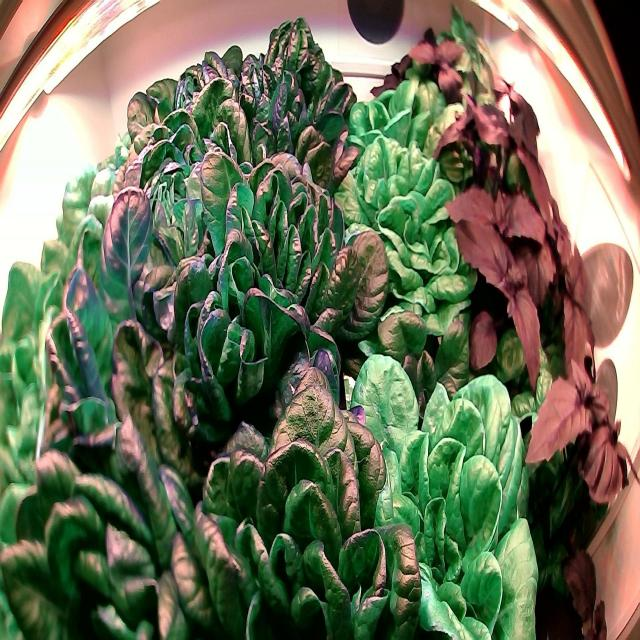Ready: (5, 251, 267, 640), (146, 137, 432, 473), (163, 311, 430, 635), (83, 76, 272, 396), (345, 348, 540, 640), (335, 134, 492, 371), (200, 7, 367, 229), (0, 119, 140, 371), (118, 17, 255, 244), (0, 258, 64, 640), (330, 64, 455, 203)
